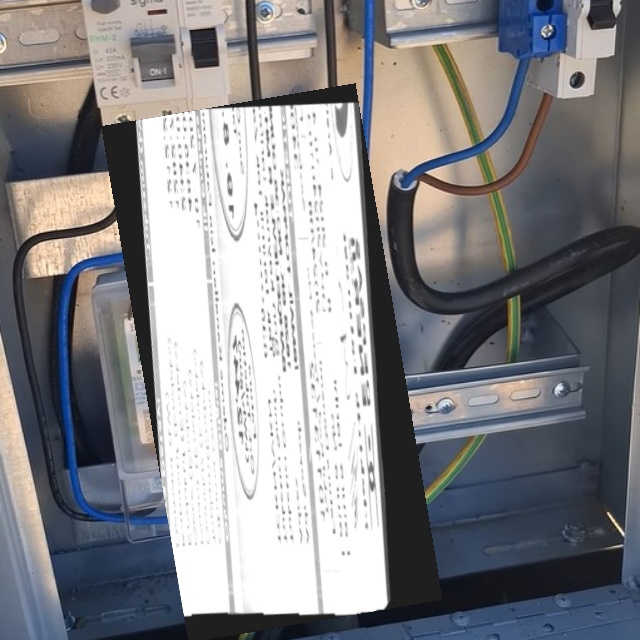electricity-bill: (101, 83, 443, 640)
